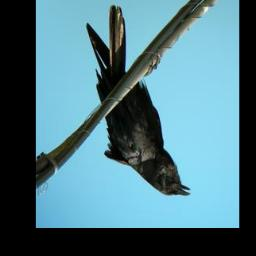Crow: (85, 4, 191, 198)
